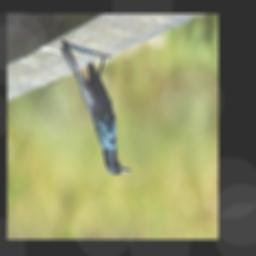Crow: (58, 40, 130, 177)
